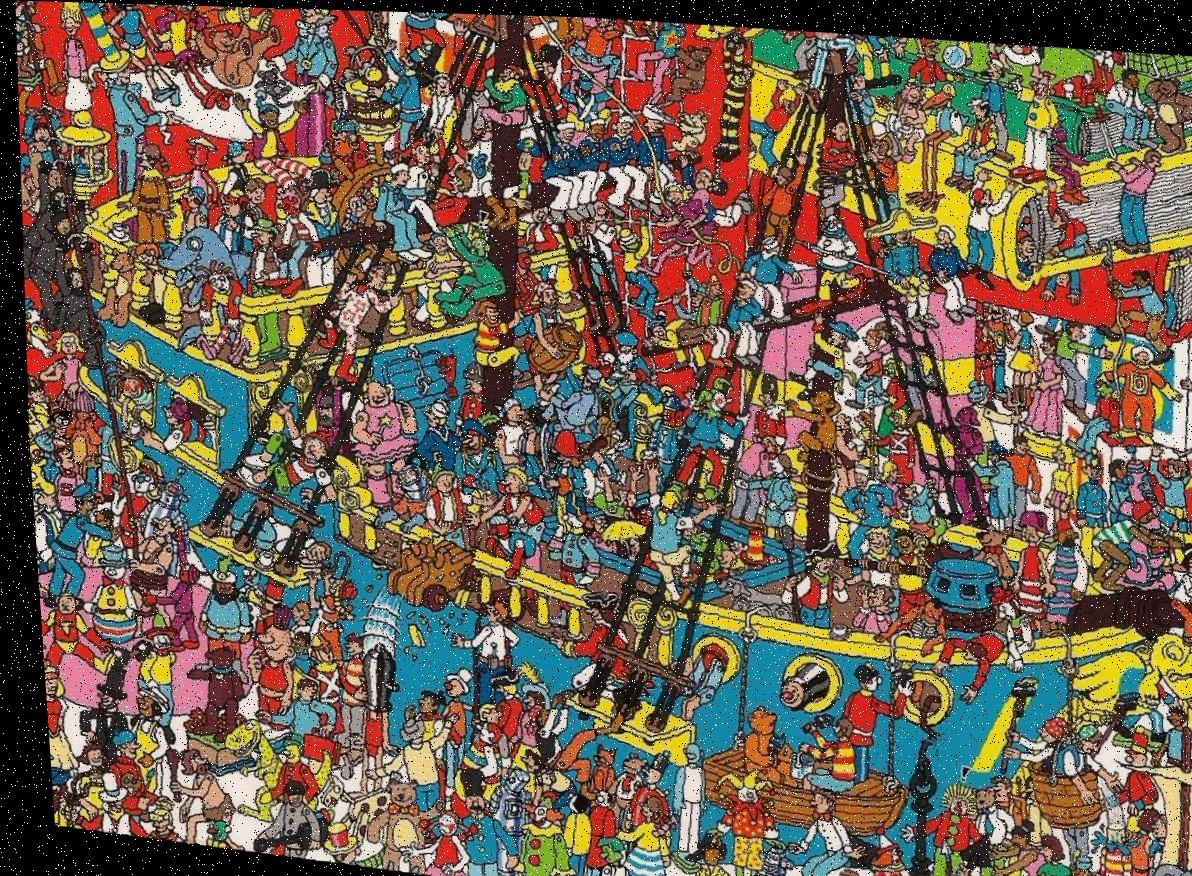waldo: (39, 399, 68, 437)
